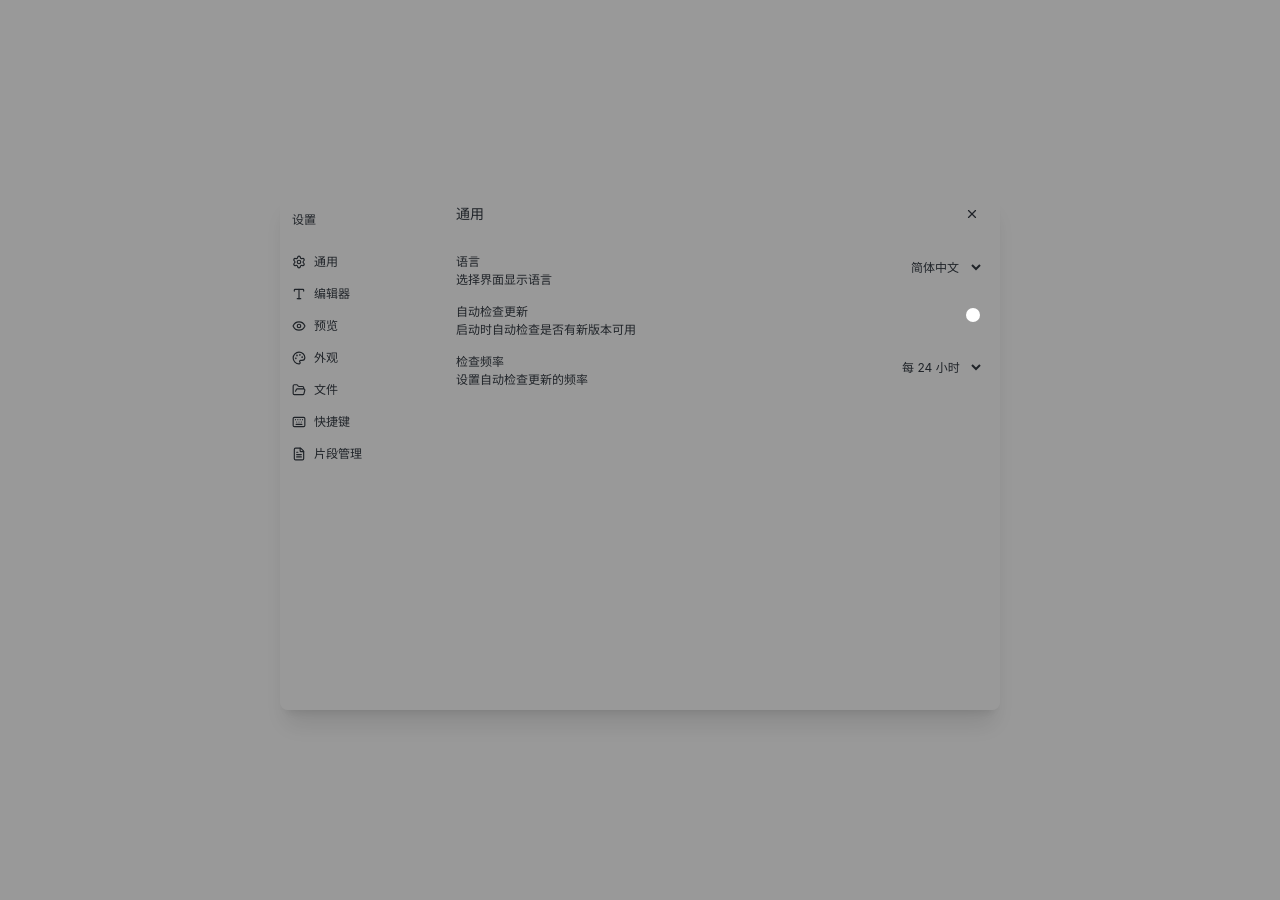
Test: SettingsModal — Editor Tab › 自动保存开启时显示延时选项
Click the button "编辑器".
click(360, 294)  # box [280,278,440,310]
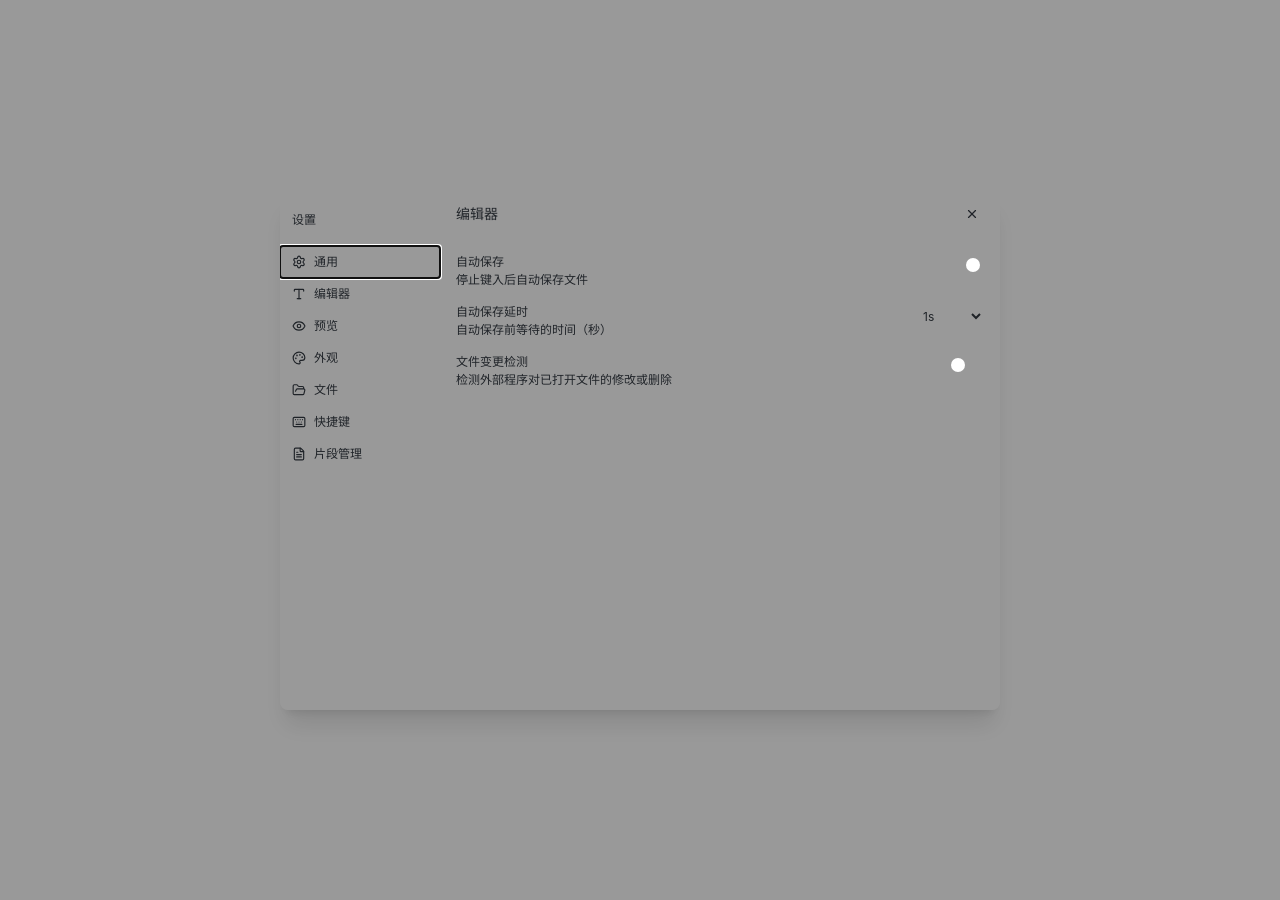
Expected: the text "自动保存延时" is shown, [456,304,528,319]
